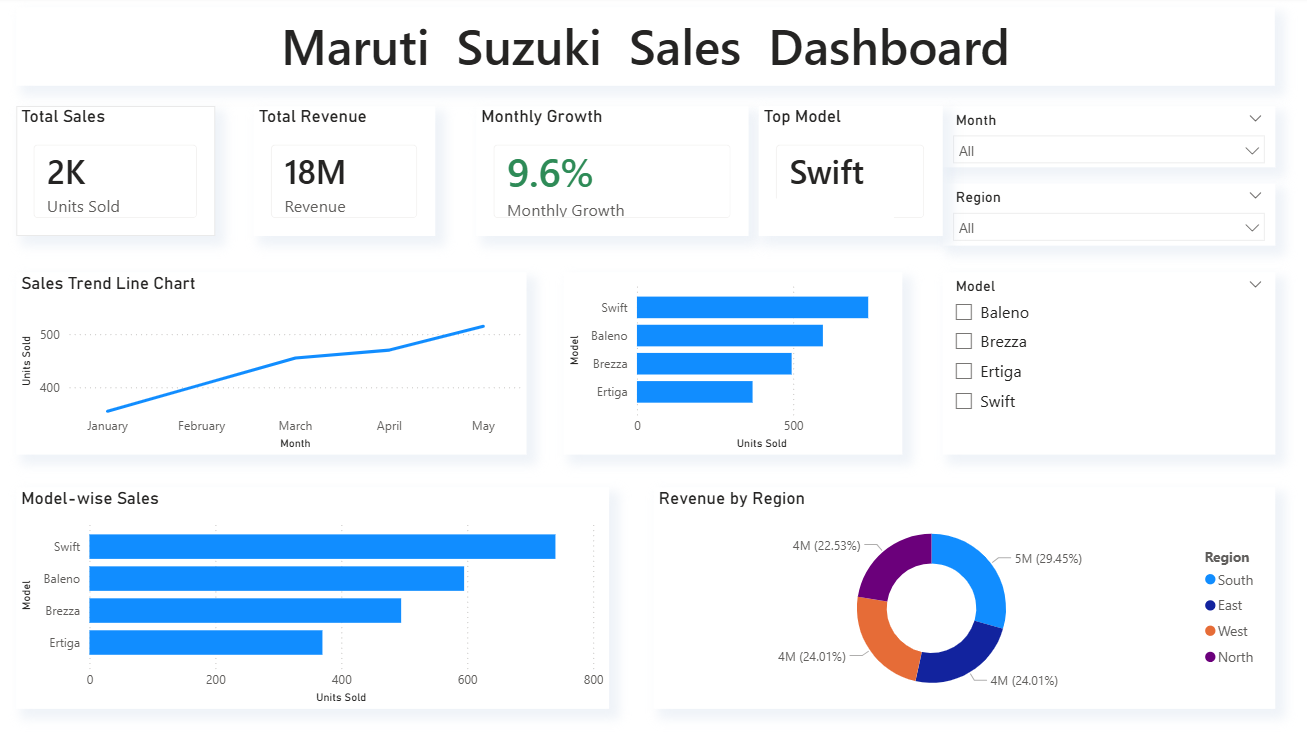

What the dashboard file says about the page in this screenshot:
{"tool":"powerbi","page":{"name":"Executive Summary","canvas":[1280,720],"ordinal":0},"visuals":[{"type":"cardVisual","title":"Total Sales","fields":{"Data":["Sum(Table4.Units Sold)"]},"box":[15.9,107.6,194.4,127.2],"z":0},{"type":"cardVisual","title":"Total Revenue","fields":{"Data":["Sum(Table4.Revenue)"]},"box":[248.2,107.6,177.3,127.2],"z":1000},{"type":"lineChart","title":"Sales Trend Line Chart ","fields":{"Category":["Table4.Date.Variation.Date Hierarchy.Month"],"Y":["Sum(Table4.Units Sold)"]},"box":[15.9,270.2,498.9,178.5],"z":2000},{"type":"clusteredBarChart","title":"Model-wise Sales","fields":{"Category":["Table4.Model"],"Y":["Sum(Table4.Units Sold)"]},"box":[15.9,480.6,579.6,216.4],"z":3000},{"type":"donutChart","title":"Revenue by Region","fields":{"Category":["Table4.Region"],"Y":["Sum(Table4.Revenue)"]},"box":[639.5,480.6,607.7,216.4],"z":4000},{"type":"slicer","title":"Month","fields":{"Values":["Table4.Date"]},"box":[922,107.6,325.3,59.9],"z":5000},{"type":"slicer","title":"Region","fields":{"Values":["Table4.Region"]},"box":[922,183.4,325.3,61.1],"z":6000},{"type":"slicer","fields":{"Values":["Table4.Model"]},"box":[922,270.2,325.3,178.5],"z":7000},{"type":"cardVisual","title":"Monthly Growth","fields":{"Data":["Table4.Units Sold Growth %"]},"box":[465.9,107.6,266.6,127.2],"z":8000},{"type":"barChart","fields":{"Category":["Table4.Model"],"Y":["Sum(Table4.Units Sold)"]},"box":[551.5,270.2,331.4,178.5],"z":9000},{"type":"textbox","box":[15.9,11,1231.4,77],"z":10000},{"type":"cardVisual","title":"Top Model","fields":{"Data":["Table4.Top Model"]},"box":[742.3,107.6,179.8,127.2],"z":11000},{"type":"textbox","box":[756.9,198.1,117.4,30.6],"z":12002}]}

Visuals, with their boxes in screenshot pixels (x1, y1, x2, y2), scaled from the page's 1280x720 canvas onto the 1307x732 screenshot:
"Total Sales" cardVisual: 16/109/215/239
"Total Revenue" cardVisual: 253/109/434/239
"Sales Trend Line Chart " lineChart: 16/275/526/456
"Model-wise Sales" clusteredBarChart: 16/489/608/709
"Revenue by Region" donutChart: 653/489/1274/709
"Month" slicer: 941/109/1274/170
"Region" slicer: 941/186/1274/249
slicer - Table4.Model: 941/275/1274/456
"Monthly Growth" cardVisual: 476/109/748/239
barChart - Table4.Model x Sum(Table4.Units Sold): 563/275/902/456
textbox: 16/11/1274/89
"Top Model" cardVisual: 758/109/942/239
textbox: 773/201/893/233
